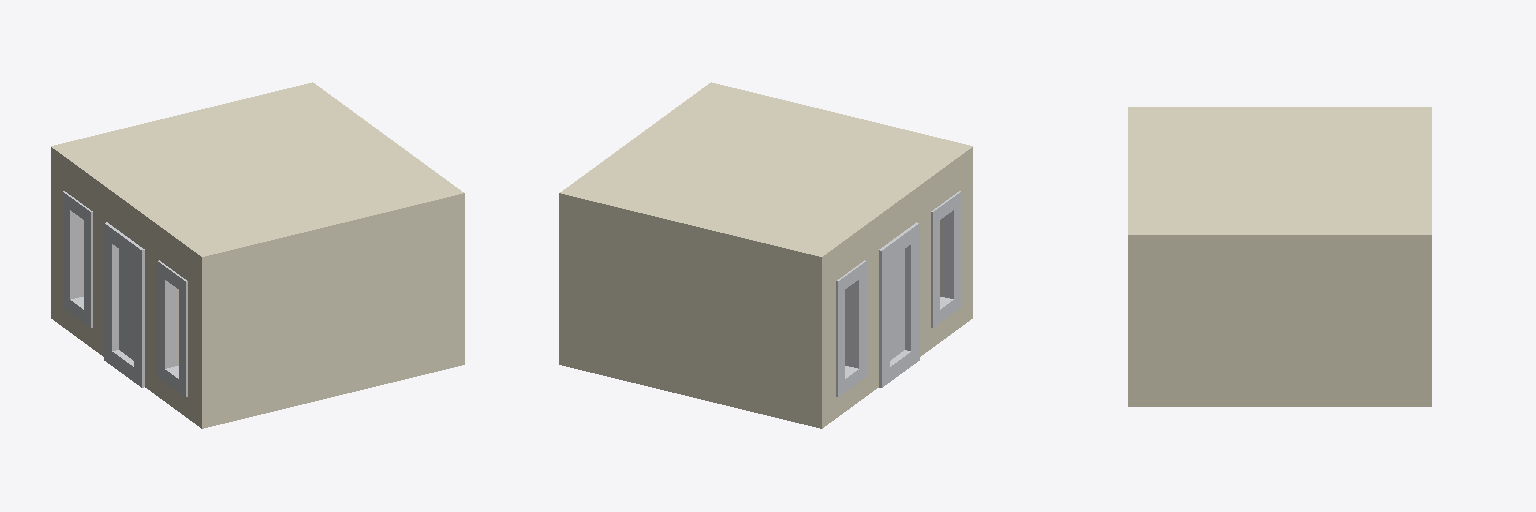
File: modularBuildings_054.obj
3 views of the same model, side by side, from view 1: azimuth 30°, elevation 25°; view 2: azimuth 150°, elevation 25°; view 3: azimuth 270°, elevation 25° (orthographic).
Visible parts, largest first — view 1: Mesh1_Group1_Model, Mesh1_Group1_Model.001, Mesh1_Group1_Model.002, Mesh1_Group1_Model.003; view 2: Mesh1_Group1_Model, Mesh1_Group1_Model.001, Mesh1_Group1_Model.003, Mesh1_Group1_Model.002; view 3: Mesh1_Group1_Model.
Part boxes in pixels (bbox=[...]): Mesh1_Group1_Model: bbox=[51, 82, 464, 428]; Mesh1_Group1_Model.001: bbox=[104, 222, 144, 387]; Mesh1_Group1_Model.002: bbox=[157, 260, 187, 396]; Mesh1_Group1_Model.003: bbox=[63, 191, 92, 327]; Mesh1_Group1_Model: bbox=[559, 82, 972, 428]; Mesh1_Group1_Model.001: bbox=[879, 222, 919, 387]; Mesh1_Group1_Model.003: bbox=[836, 260, 866, 396]; Mesh1_Group1_Model.002: bbox=[931, 191, 960, 327]; Mesh1_Group1_Model: bbox=[1128, 107, 1431, 406].
Size of the model in its own units: 1.01 by 0.625 by 1.